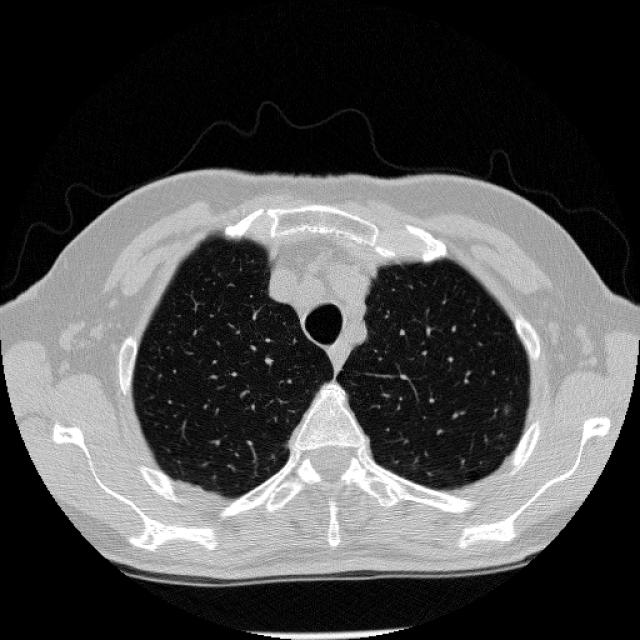nodule: (497, 399, 515, 416)
